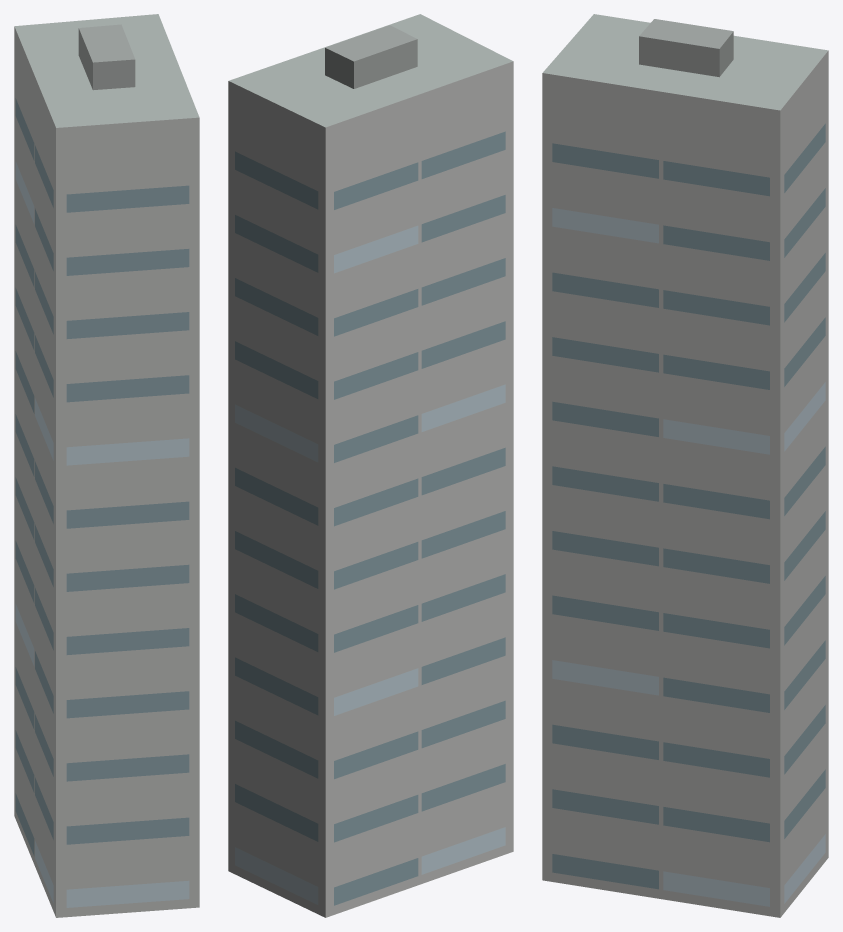
File: fallback-gwanak-dream-town-138.glb
The picture shows the model from 3 angles, left to right: view 1: azimuth 30°, elevation 25°; view 2: azimuth 150°, elevation 25°; view 3: azimuth 270°, elevation 25°; orthographic projection. The views are drawn at different scales.
Parts seen in each view (by area): view 1: fallback-gwanak-dream-town-138; view 2: fallback-gwanak-dream-town-138; view 3: fallback-gwanak-dream-town-138.
Boxes of the visible parts, x1,y1,x2,y2 form: fallback-gwanak-dream-town-138: [14, 14, 199, 917]; fallback-gwanak-dream-town-138: [228, 14, 513, 917]; fallback-gwanak-dream-town-138: [542, 14, 828, 917].
Bounding box in the file's own units: 17.59 × 71 × 22.03.
